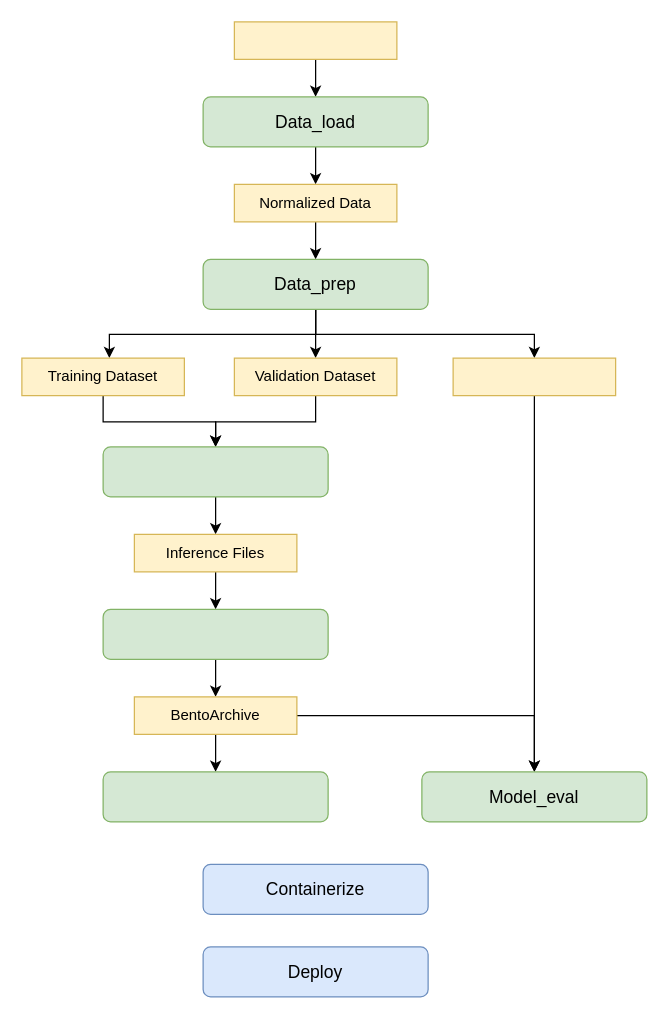
The diagram is 669 pixels wide and 1019 high, and some of its shapes have lost their labels. Here are the shapes that lost their labels. From the top down, the centre of each, then its label:
At point (315, 40): "external URL`s".
At point (534, 376): "Testing Dataset".
At point (215, 471): "Model_train".
At point (215, 633): "Model_pack".
At point (215, 796): "Model_test".
